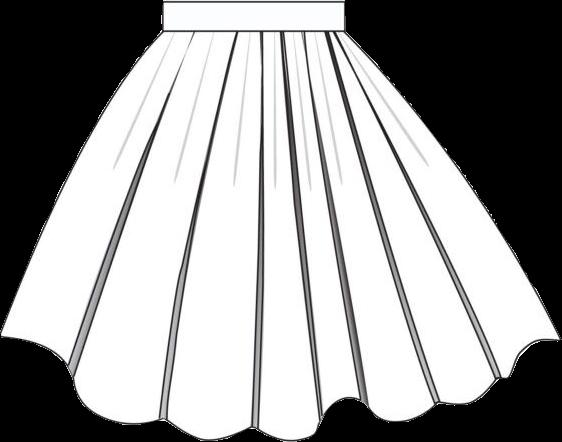Hemline: (0, 333, 561, 441)
Waistline: (163, 25, 347, 34), (160, 0, 346, 4)
